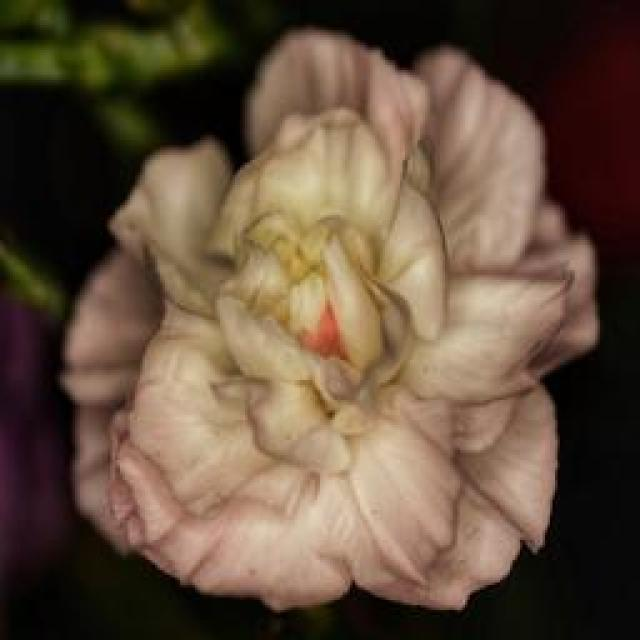carnation: (54, 29, 581, 640)
